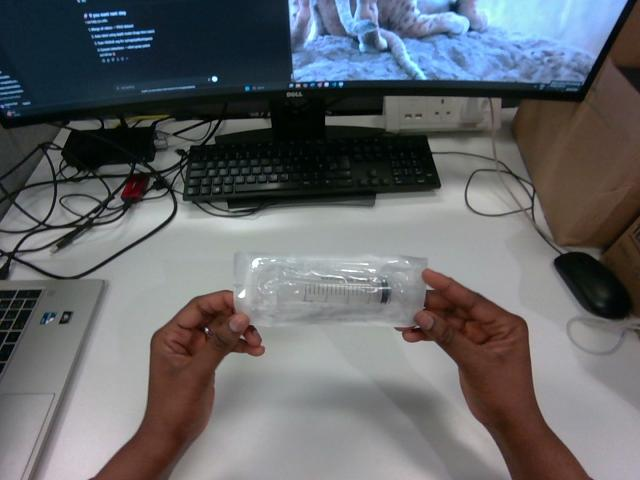syringe: (234, 252, 426, 326)
